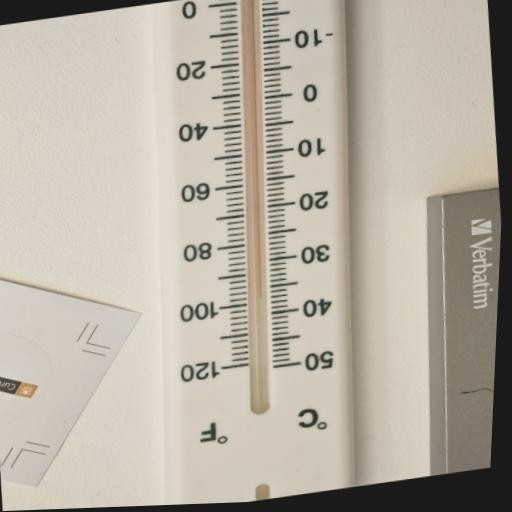thermometer: (111, 0, 401, 507)
